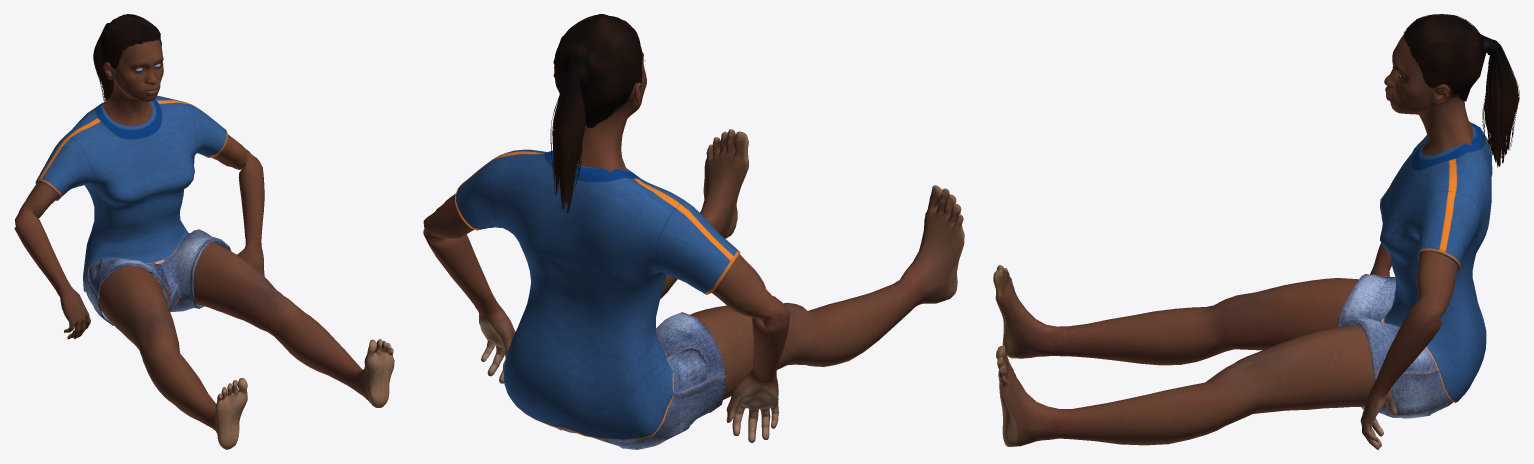
The model's file is amara-sitting.glb.
The picture shows the model from 3 angles, left to right: view 1: azimuth 30°, elevation 25°; view 2: azimuth 150°, elevation 25°; view 3: azimuth 270°, elevation 25°; orthographic projection. The views are drawn at different scales.
Parts seen in each view (by area): view 1: lie_woman_body, lie_woman_body.female_casualsuit02, lie_woman_body.ponytail01; view 2: lie_woman_body.female_casualsuit02, lie_woman_body, lie_woman_body.ponytail01; view 3: lie_woman_body, lie_woman_body.female_casualsuit02, lie_woman_body.ponytail01.
Part boxes in pixels (bbox=[...]): lie_woman_body: bbox=[14, 40, 394, 449]; lie_woman_body.female_casualsuit02: bbox=[35, 95, 231, 325]; lie_woman_body.ponytail01: bbox=[93, 14, 161, 101]; lie_woman_body.female_casualsuit02: bbox=[455, 149, 740, 449]; lie_woman_body: bbox=[423, 46, 964, 442]; lie_woman_body.ponytail01: bbox=[550, 14, 642, 213]; lie_woman_body: bbox=[993, 35, 1472, 449]; lie_woman_body.female_casualsuit02: bbox=[1337, 123, 1492, 418]; lie_woman_body.ponytail01: bbox=[1403, 14, 1519, 167].
Bounding box in the file's own units: 0.7703 × 0.8841 × 1.1.
Materials: 7 (7 with a texture image).
